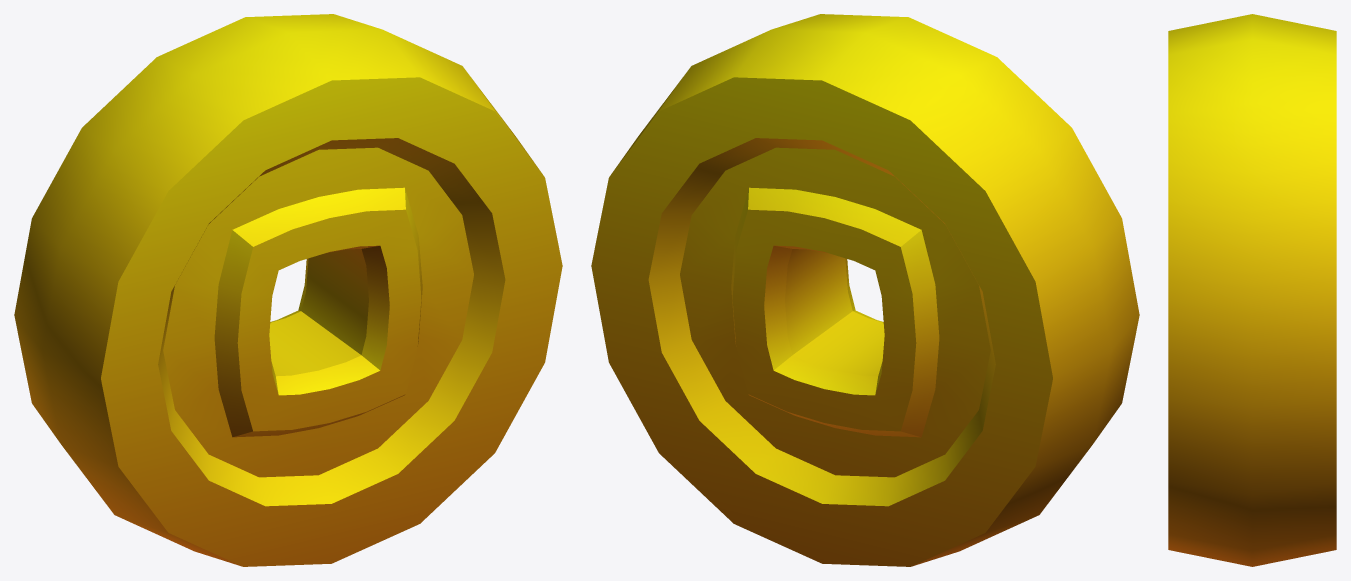
File: Gold_Hole_Coin_03.glb
The picture shows the model from 3 angles, left to right: view 1: azimuth 30°, elevation 25°; view 2: azimuth 150°, elevation 25°; view 3: azimuth 270°, elevation 25°; orthographic projection. The views are drawn at different scales.
Parts seen in each view (by area): view 1: Gold_Hole_Coin_03; view 2: Gold_Hole_Coin_03; view 3: Gold_Hole_Coin_03.
Boxes of the visible parts, box(x1,y1,x2,y2) form: Gold_Hole_Coin_03: box(14, 14, 562, 566); Gold_Hole_Coin_03: box(591, 14, 1139, 566); Gold_Hole_Coin_03: box(1168, 14, 1336, 566).
Size of the model in its own units: 0.4853 by 0.4853 by 0.1478.
1 material, 1 textured.
